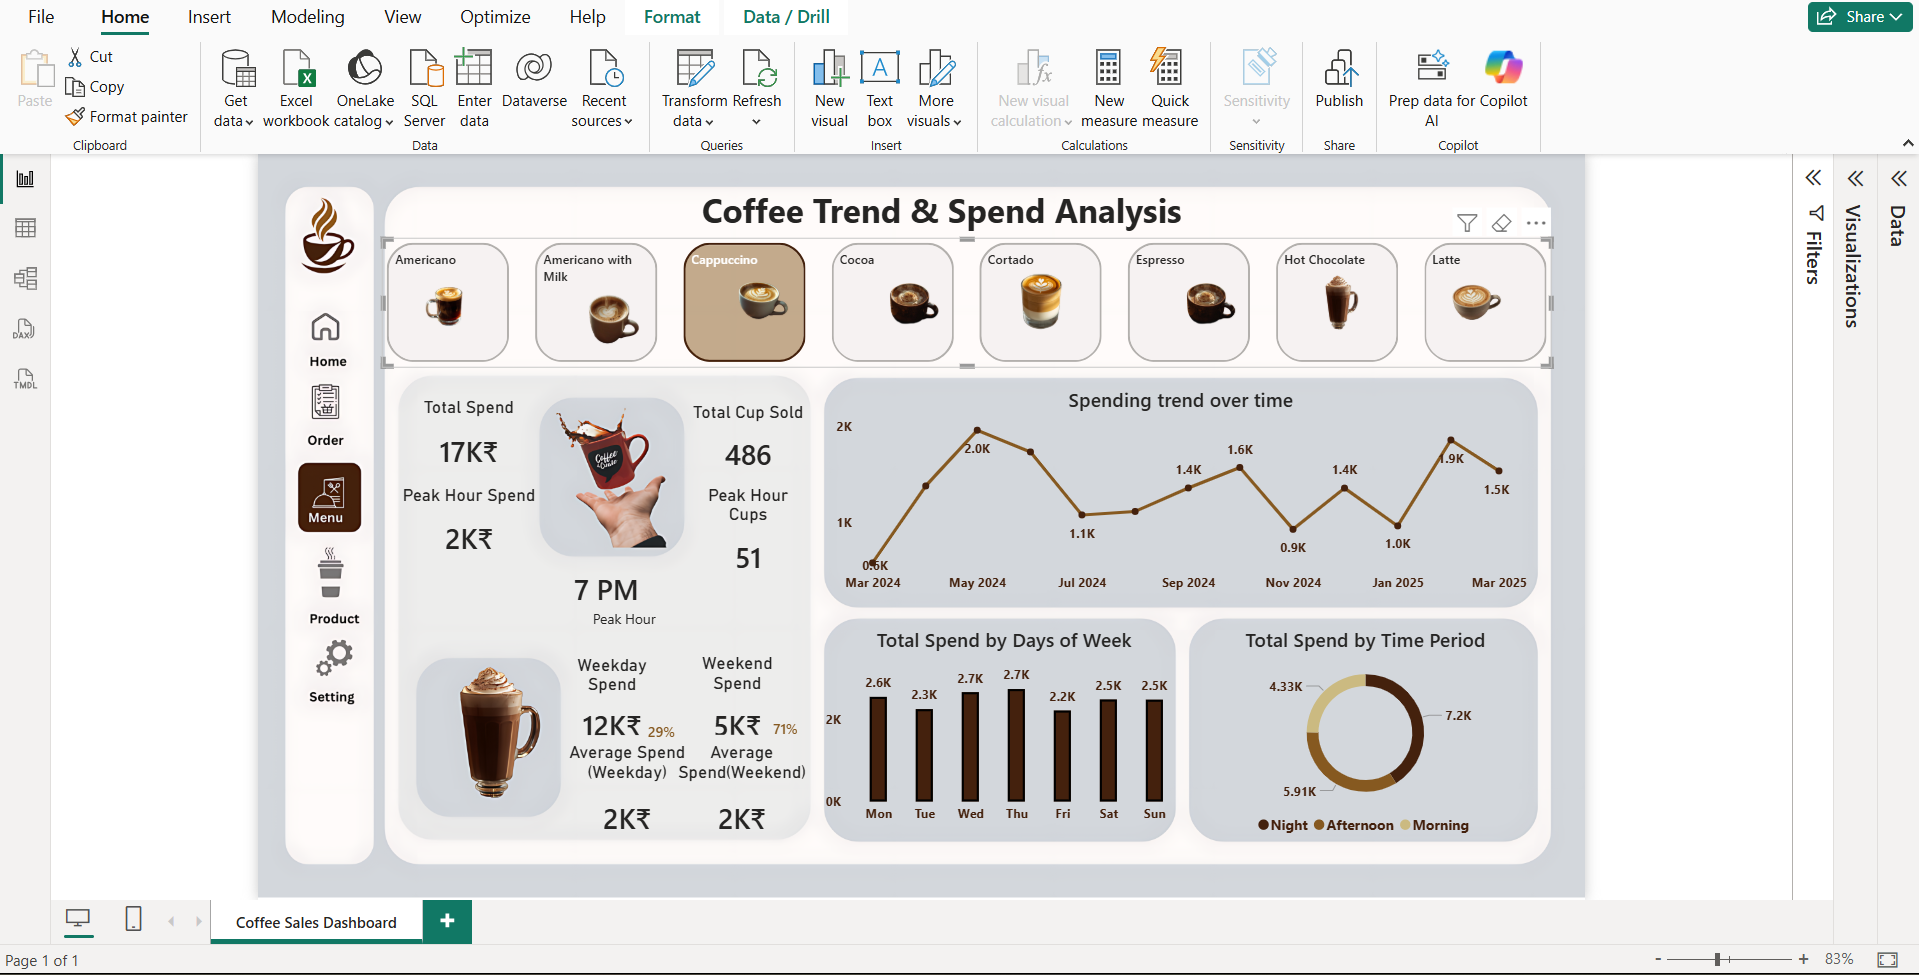

What the dashboard file says about the page in this screenshot:
{"tool":"powerbi","page":{"name":"Coffee Sales Dashboard","canvas":[1280,720],"ordinal":0},"visuals":[{"type":"textbox","box":[422.9,27.4,485.7,53.1],"z":0},{"type":"cardVisual","title":"Total Spend","fields":{"Data":["coffee_data.Total_Spen"]},"box":[132.7,234.4,141.6,84],"z":1000},{"type":"cardVisual","title":"Total Cup Sold","fields":{"Data":["coffee_data.Total_Cup_Sold"]},"box":[413.2,238.9,121.2,79.6],"z":2000},{"type":"cardVisual","title":"Peak Hour Spend","fields":{"Data":["coffee_data.Peak_Hours"]},"box":[134.5,318.5,139.8,84],"z":3000},{"type":"cardVisual","title":"Peak Hour Cups","fields":{"Data":["coffee_data.Peak_Hour_Cup"]},"box":[413.2,318.5,121.2,99.1],"z":4000},{"type":"cardVisual","fields":{"Data":["coffee_data.Peak_Hour_Label"]},"box":[269,371.6,134.9,92],"z":5000,"group":"g1"},{"type":"cardVisual","title":"Weekday Spend","fields":{"Data":["coffee_data.WeekDay_Spend"]},"box":[280.5,482.2,123.9,95.5],"z":5000},{"type":"cardVisual","title":"Weekend Spend","fields":{"Data":["coffee_data.WeekEnd_Spend"]},"box":[399,481.3,126.5,96.4],"z":6000},{"type":"cardVisual","fields":{"Data":["coffee_data.% Weekday_Spend"]},"box":[467.1,529.1,84,48.7],"z":7000},{"type":"cardVisual","fields":{"Data":["coffee_data.% WeekEnd_Spend"]},"box":[345.9,529.9,86.7,53.1],"z":8000},{"type":"cardVisual","title":"Average Spend (Weekday)","fields":{"Data":["coffee_data.Weekday_Avg_Spend"]},"box":[289.3,567.1,133.6,107.1],"z":9000},{"type":"cardVisual","title":"Average Spend(Weekend)","fields":{"Data":["coffee_data.WeekEnd_Avg_Spend"]},"box":[399,567.1,135.4,107.1],"z":10000},{"type":"group","id":"g1","title":"Group 1","box":[269,371.6,162.9,91.7],"z":11000},{"type":"textbox","box":[276.7,434.1,154.2,29],"z":11001,"group":"g1"},{"type":"lineChart","title":"Spending trend over time","fields":{"Y":["Sum(coffee_data.money(Rs))"],"Category":["coffee_data.Date.Variation.Date Hierarchy.Year","coffee_data.Date.Variation.Date Hierarchy.Quarter","coffee_data.Date.Variation.Date Hierarchy.Month"]},"box":[551.2,224.7,678.6,207.9],"z":12000},{"type":"clusteredColumnChart","title":"Total Spend by Days of Week","fields":{"Y":["Sum(coffee_data.money(Rs))"],"Category":["coffee_data.Weekday"]},"box":[542.3,456.5,354.8,199.1],"z":13000},{"type":"donutChart","title":"Total Spend by Time Period","fields":{"Category":["coffee_data.Time_of_Day"],"Y":["Sum(coffee_data.money(Rs))"]},"box":[908.6,456.5,321.2,210.6],"z":14000},{"type":"advancedSlicerVisual","fields":{"Values":["coffee_data.coffee_name"]},"box":[119.4,80.5,1129.8,125.6],"z":15000}]}

Visuals, with their boxes on the page's 1280x720 design canvas (x1, y1, x2, y2). These are canvas units, not pixel positions in the 1919x975 screenshot, which may show the page scaled, cropped or inside an application window:
textbox: x1=423 y1=27 x2=909 y2=80
"Total Spend" cardVisual: x1=133 y1=234 x2=274 y2=318
"Total Cup Sold" cardVisual: x1=413 y1=239 x2=534 y2=318
"Peak Hour Spend" cardVisual: x1=134 y1=318 x2=274 y2=402
"Peak Hour Cups" cardVisual: x1=413 y1=318 x2=534 y2=418
cardVisual - coffee_data.Peak_Hour_Label: x1=269 y1=372 x2=404 y2=464
"Weekday Spend" cardVisual: x1=280 y1=482 x2=404 y2=578
"Weekend Spend" cardVisual: x1=399 y1=481 x2=526 y2=578
cardVisual - coffee_data.% Weekday_Spend: x1=467 y1=529 x2=551 y2=578
cardVisual - coffee_data.% WeekEnd_Spend: x1=346 y1=530 x2=433 y2=583
"Average Spend (Weekday)" cardVisual: x1=289 y1=567 x2=423 y2=674
"Average Spend(Weekend)" cardVisual: x1=399 y1=567 x2=534 y2=674
"Group 1" group: x1=269 y1=372 x2=432 y2=463
textbox: x1=277 y1=434 x2=431 y2=463
"Spending trend over time" lineChart: x1=551 y1=225 x2=1230 y2=433
"Total Spend by Days of Week" clusteredColumnChart: x1=542 y1=456 x2=897 y2=656
"Total Spend by Time Period" donutChart: x1=909 y1=456 x2=1230 y2=667
advancedSlicerVisual - coffee_data.coffee_name: x1=119 y1=80 x2=1249 y2=206
